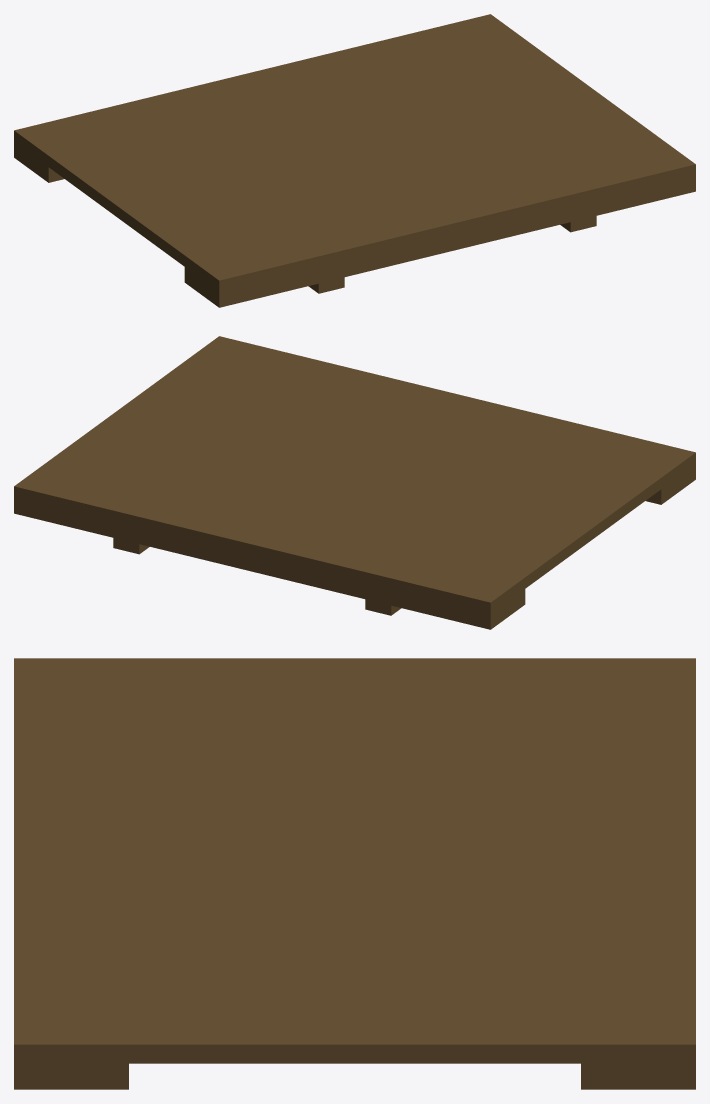
File: Ceiling.fbx
3 views of the same model, one above another, from view 1: azimuth 30°, elevation 25°; view 2: azimuth 150°, elevation 25°; view 3: azimuth 270°, elevation 25° (orthographic). The views are drawn at different scales.
Parts seen in each view (by area): view 1: Ceiling; view 2: Ceiling; view 3: Ceiling.
Boxes of the visible parts, x1=… form: Ceiling: x1=14, y1=14, x2=695, y2=307; Ceiling: x1=14, y1=336, x2=695, y2=629; Ceiling: x1=14, y1=658, x2=695, y2=1089.
Size of the model in its own units: 600 by 45.03 by 448.
